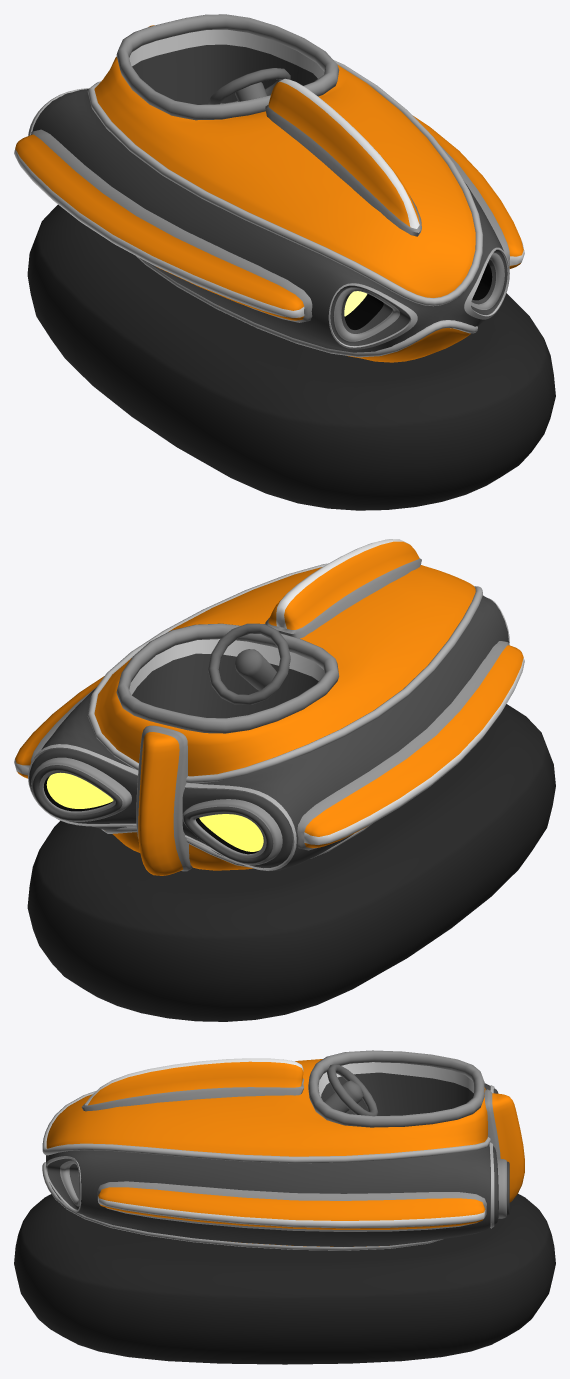
Rendered from mesh_Car_Menu_R.fbx.
3 renders of one model, top to bottom at view 1: azimuth 30°, elevation 25°; view 2: azimuth 150°, elevation 25°; view 3: azimuth 270°, elevation 25°, orthographic. The views are drawn at different scales.
Parts seen in each view (by area): view 1: mesh_Car_Menu_R; view 2: mesh_Car_Menu_R; view 3: mesh_Car_Menu_R.
Part boxes in pixels (x1=…): mesh_Car_Menu_R: x1=14, y1=14, x2=555, y2=510; mesh_Car_Menu_R: x1=14, y1=539, x2=555, y2=1021; mesh_Car_Menu_R: x1=14, y1=1050, x2=555, y2=1364.
Size of the model in its own units: 1.8 by 1.56 by 2.97.
